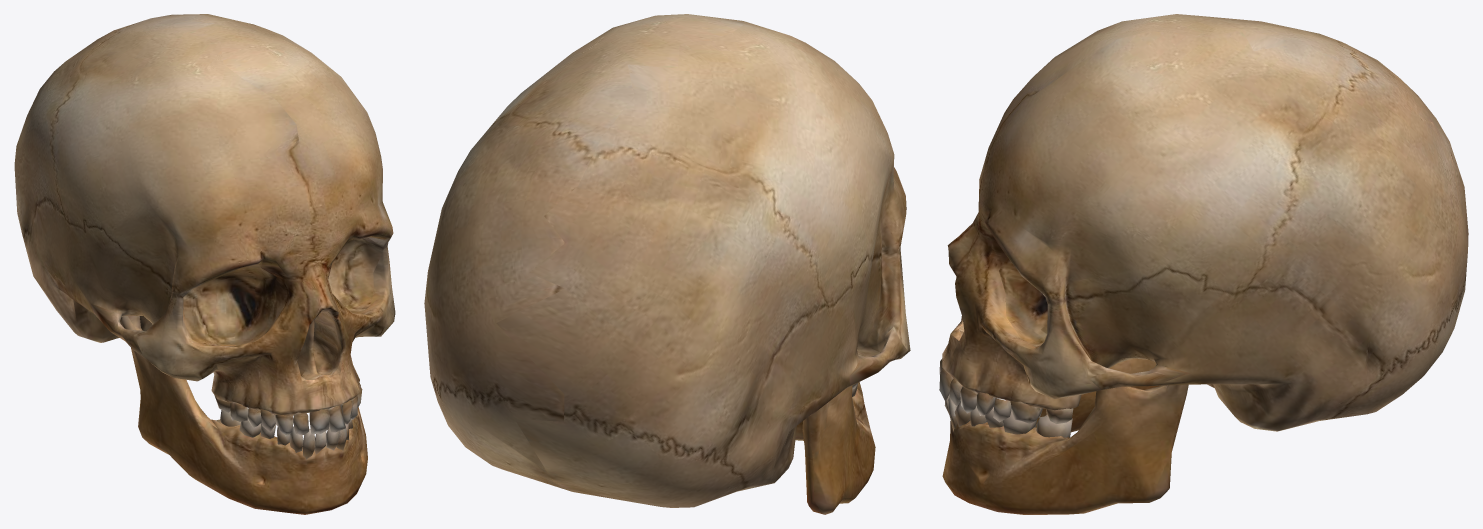
Rendered from skull.glb.
3 views of the same model, side by side, from view 1: azimuth 30°, elevation 25°; view 2: azimuth 150°, elevation 25°; view 3: azimuth 270°, elevation 25° (orthographic). The views are drawn at different scales.
Parts seen in each view (by area): view 1: skull; view 2: skull; view 3: skull.
Part boxes in pixels (x1,y1,x2,y2): skull: (14,14,395,514); skull: (424,14,910,514); skull: (939,14,1468,514).
Bounding box in the file's own units: 1.52 × 2.1 × 2.25.
Materials: 1 (1 with a texture image).
